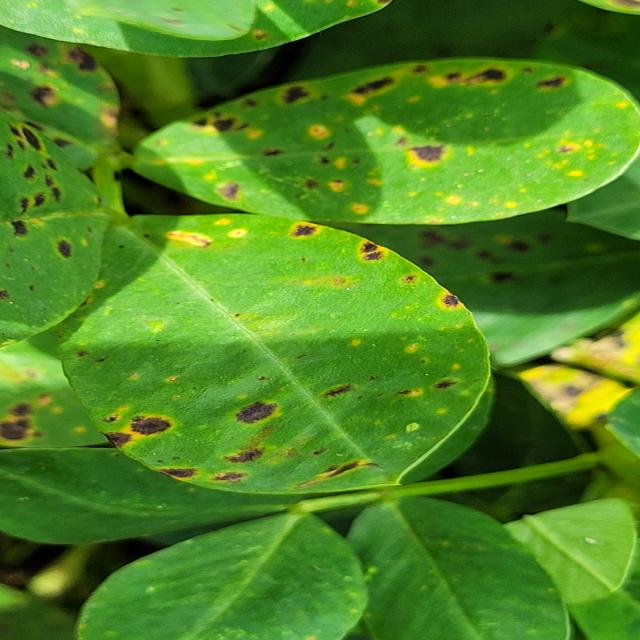Ground nut_tikka leaf spot: (57, 210, 492, 496), (130, 56, 640, 225)
